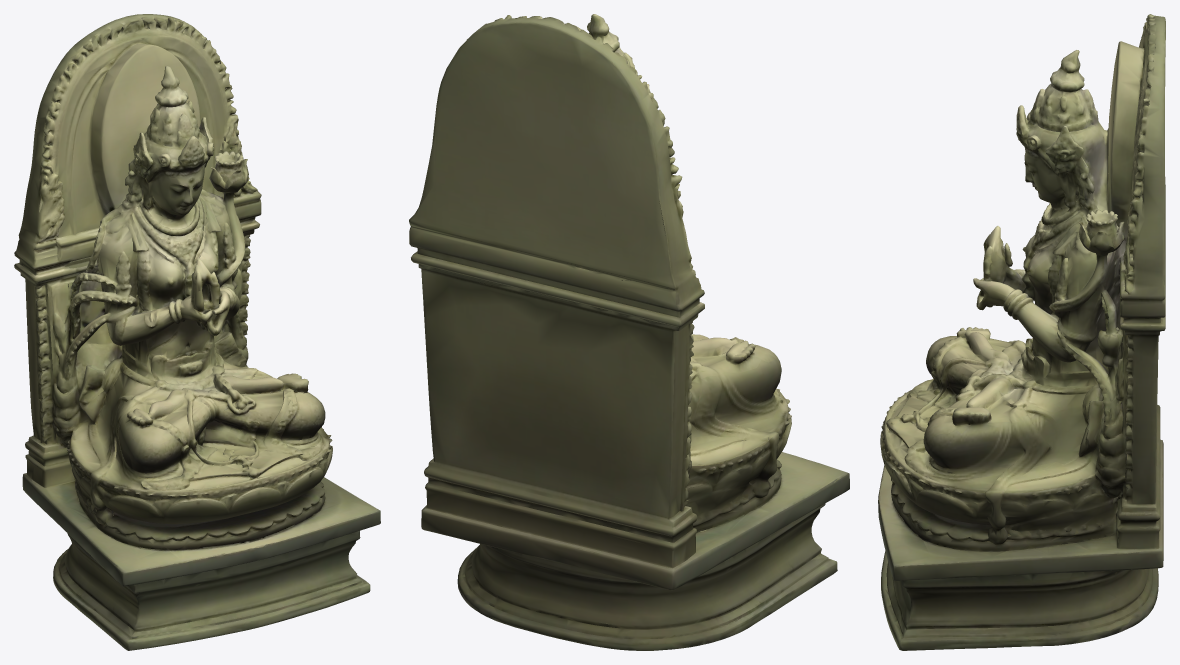
Rendered from prajnaparamita.glb.
3 renders of one model, left to right at view 1: azimuth 30°, elevation 25°; view 2: azimuth 150°, elevation 25°; view 3: azimuth 270°, elevation 25°, orthographic. The views are drawn at different scales.
Parts seen in each view (by area): view 1: SM_prajnaparamita_LOD0; view 2: SM_prajnaparamita_LOD0; view 3: SM_prajnaparamita_LOD0.
Part boxes in pixels (x1,y1,x2,y2): SM_prajnaparamita_LOD0: [14, 14, 380, 650]; SM_prajnaparamita_LOD0: [409, 14, 849, 650]; SM_prajnaparamita_LOD0: [878, 14, 1165, 650].
Size of the model in its own units: 0.658 by 1.26 by 0.5866.
Materials: 1 (1 with a texture image).
